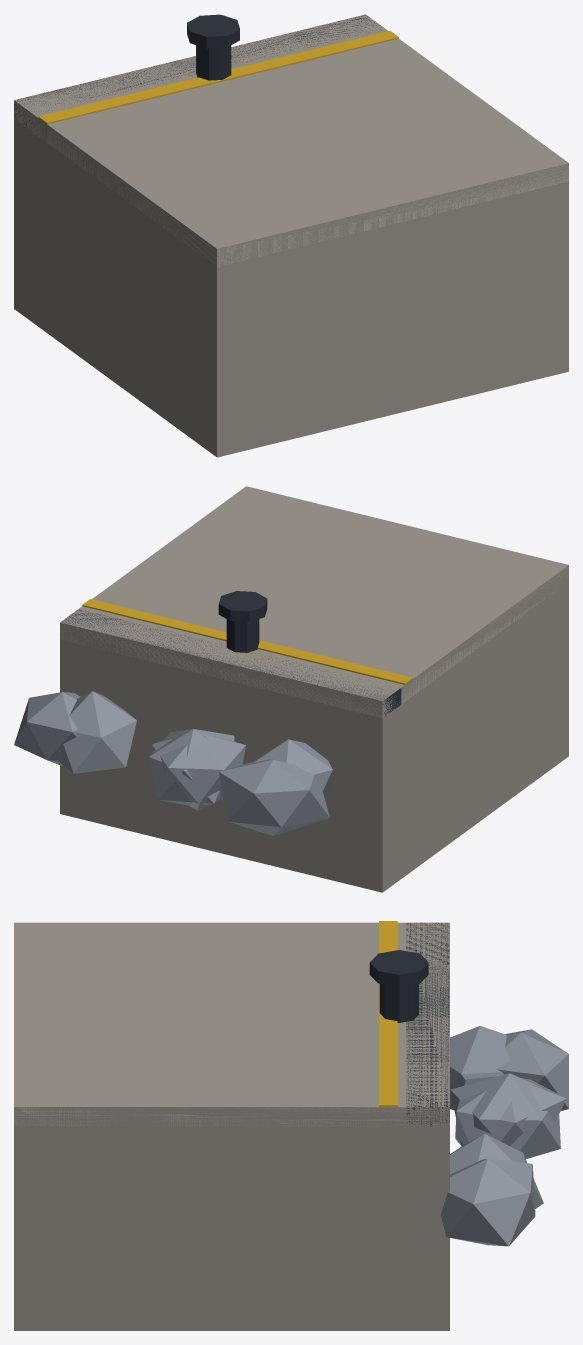
Rendered from quay_end.glb.
The picture shows the model from 3 angles, top to bottom: view 1: azimuth 30°, elevation 25°; view 2: azimuth 150°, elevation 25°; view 3: azimuth 270°, elevation 25°; orthographic projection. The views are drawn at different scales.
Visible parts, largest first — view 1: quay_end; view 2: quay_end; view 3: quay_end.
Boxes of the visible parts, bbox=[...] form: quay_end: bbox=[14, 14, 568, 457]; quay_end: bbox=[14, 486, 568, 892]; quay_end: bbox=[14, 921, 568, 1330].
Size of the model in its own units: 6.39 by 4.2 by 7.64.
